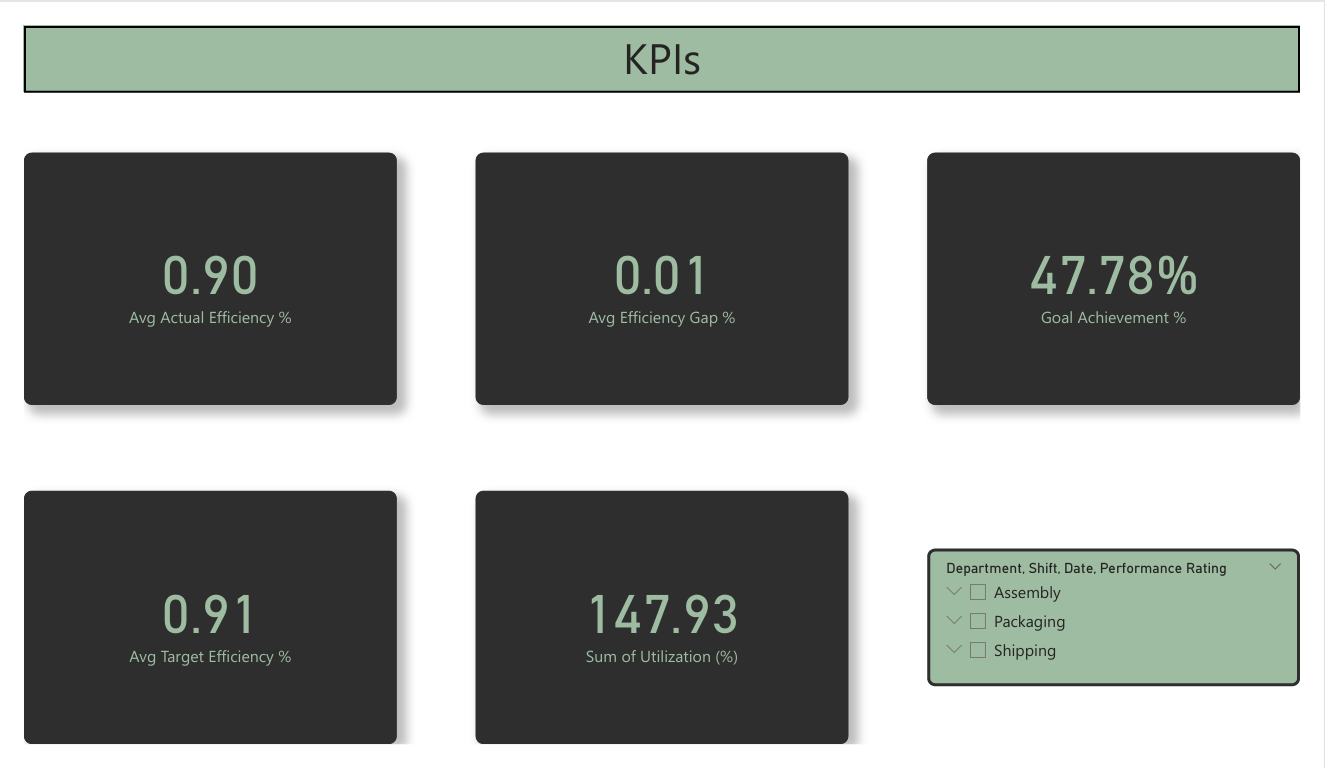

Layout of this report page (visuals, bound fields, positions):
{"tool":"powerbi","page":{"name":"KPIs","canvas":[1280,720],"ordinal":0},"visuals":[{"type":"card","fields":{"Values":["Sheet1.Avg Actual Efficiency %"]},"box":[0,126.6,373.6,253.1],"z":0},{"type":"slicer","fields":{"Values":["Sheet1.Department","Sheet1.Shift","Sheet1.Date","Sheet1.Performance Rating"]},"box":[906.4,524.3,373.6,137.4],"z":1000},{"type":"card","fields":{"Values":["Sheet1.Avg Efficiency Gap %"]},"box":[453.2,126.6,373.6,253.1],"z":2000},{"type":"card","fields":{"Values":["Sum(Sheet1.Utilization (%))"]},"box":[453.2,466.4,373.6,253.1],"z":3000},{"type":"card","fields":{"Values":["Sheet1.Goal Achievement %"]},"box":[906.4,126.6,373.6,253.1],"z":4000},{"type":"card","fields":{"Values":["Sheet1.Avg Target Efficiency %"]},"box":[0,466.4,373.6,253.1],"z":5000},{"type":"textbox","box":[0,0,1280,67.5],"z":6000}]}

Visuals, with their boxes in screenshot pixels (x1, y1, x2, y2), scaled from the page's 1280x720 canvas onto the 1325x768 screenshot:
card - Sheet1.Avg Actual Efficiency %: [0,135,387,405]
slicer - Sheet1.Department x Sheet1.Shift: [938,559,1324,706]
card - Sheet1.Avg Efficiency Gap %: [469,135,856,405]
card - Sum(Sheet1.Utilization (%)): [469,497,856,767]
card - Sheet1.Goal Achievement %: [938,135,1324,405]
card - Sheet1.Avg Target Efficiency %: [0,497,387,767]
textbox: [0,0,1324,72]
